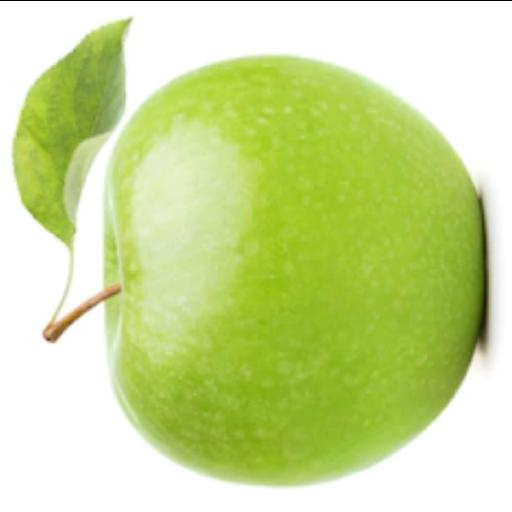apple: (106, 57, 484, 483)
